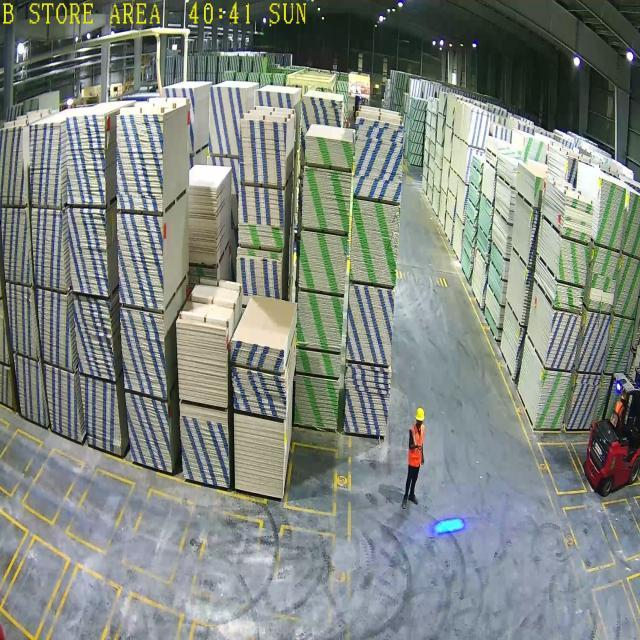material_stack: (177, 324, 227, 398), (356, 120, 399, 196), (354, 206, 396, 280), (235, 422, 282, 488), (348, 289, 391, 361), (182, 415, 228, 478), (241, 124, 286, 184), (298, 234, 346, 289), (346, 369, 386, 435), (302, 174, 350, 228), (238, 190, 283, 245), (298, 296, 343, 349), (233, 373, 284, 409), (296, 380, 336, 424), (551, 314, 578, 368), (239, 257, 281, 291), (600, 183, 622, 245), (592, 250, 614, 311), (305, 137, 353, 164), (542, 374, 566, 428), (231, 342, 285, 366), (572, 378, 596, 423), (560, 246, 587, 284), (619, 262, 638, 316), (565, 198, 591, 235), (298, 353, 338, 377), (610, 323, 630, 371), (586, 316, 604, 368), (593, 376, 612, 418), (626, 197, 640, 252), (556, 286, 582, 312)
